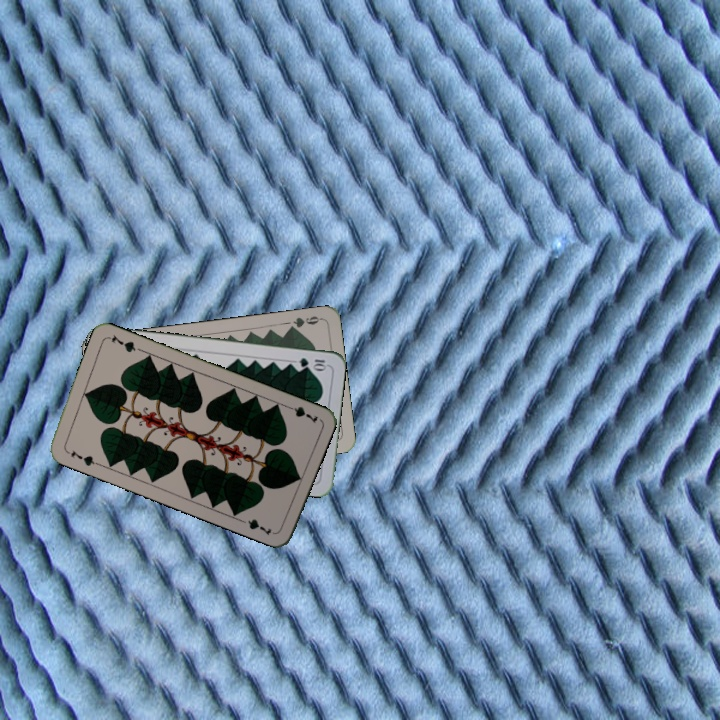G10: (295, 354, 329, 371)
G7: (282, 401, 321, 426), (62, 446, 101, 469)
G9: (284, 312, 324, 333)
